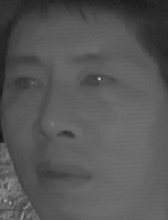eye: (78, 70, 120, 92), (10, 73, 49, 95)
mouth: (32, 155, 96, 195)
